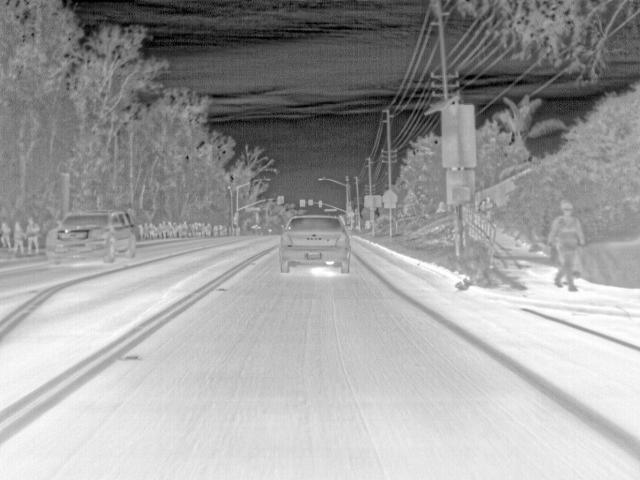car: (43, 210, 138, 266), (279, 214, 352, 273)
person: (548, 198, 585, 292), (25, 217, 39, 255), (11, 220, 24, 255), (0, 222, 11, 248), (481, 196, 493, 218), (161, 221, 168, 238), (150, 224, 157, 239), (172, 222, 179, 236), (166, 222, 173, 236), (142, 223, 149, 237), (181, 220, 187, 236), (205, 224, 212, 235), (193, 224, 199, 236), (198, 223, 203, 235)
